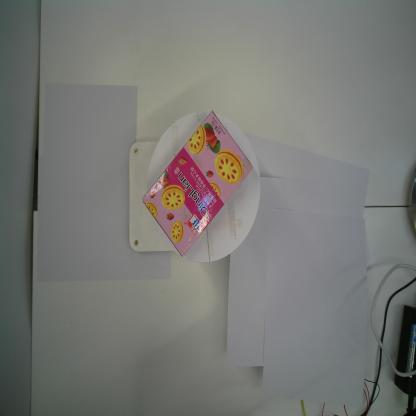Dessert: (140, 110, 254, 258)
